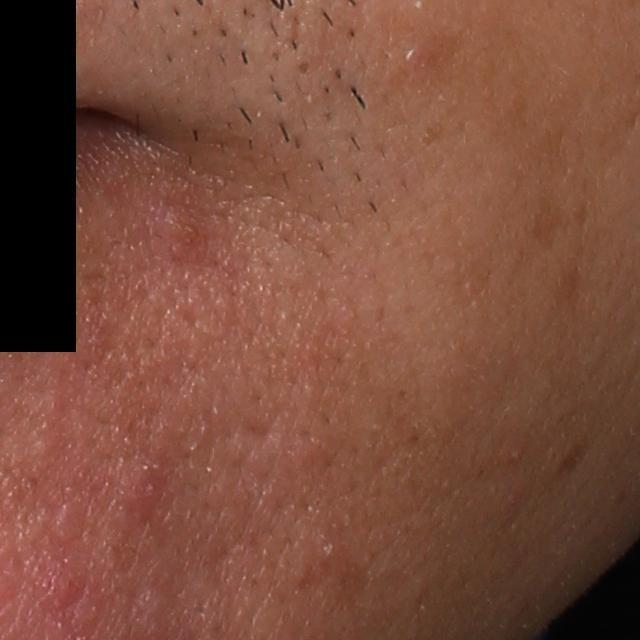papule: (156, 201, 203, 244)
